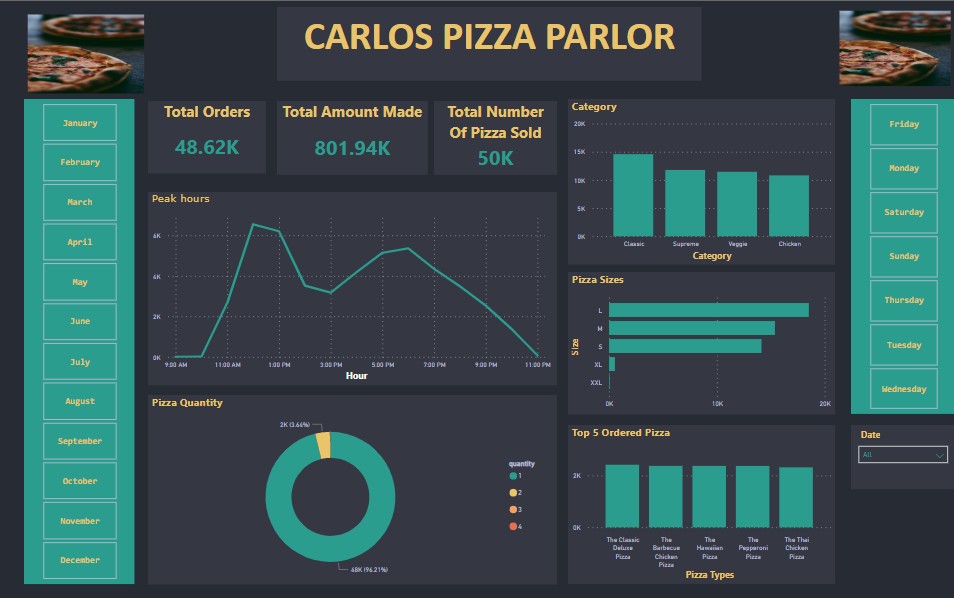

This screenshot's page, from the dashboard's own definition file:
{"tool":"powerbi","page":{"name":"Google-Coursera-capstone","canvas":[1280,800],"ordinal":0},"visuals":[{"type":"lineChart","title":"Peak hours","fields":{"Category":["order_details.Start of Hour"],"Y":["CountNonNull(order_details.order_id)"]},"box":[198.2,255.3,547.6,258.7],"z":1000},{"type":"card","title":"   Total Orders ","fields":{"Values":["CountNonNull(order_details.order_id)"]},"box":[198.2,134.4,157.9,97.4],"z":2000},{"type":"donutChart","title":"Pizza Quantity","fields":{"Y":["Sum(order_details.quantity)"],"Category":["order_details.quantity"]},"box":[198.2,527.5,547.6,253.6],"z":3000},{"type":"clusteredBarChart","title":"Pizza Sizes","fields":{"Category":["order_details.pizzas.size"],"Y":["CountNonNull(order_details.pizzas.size)"]},"box":[760.9,362.8,357.8,191.5],"z":4000},{"type":"columnChart","title":"Category","fields":{"Category":["order_details.pizzas.pizza_types.category"],"Y":["CountNonNull(order_details.pizzas.pizza_types.category)"]},"box":[760.9,131,357.8,221.7],"z":5000},{"type":"card","title":"Total Amount Made","fields":{"Values":["Sum(order_details.pizzas.price)"]},"box":[371.2,134.4,201.6,99.1],"z":6000},{"type":"columnChart","title":"Top 5 Ordered Pizza","fields":{"Category":["order_details.pizzas.pizza_types.name"],"Y":["CountNonNull(order_details.pizzas.pizza_types.name)"]},"box":[760.9,567.8,357.8,213.3],"z":7000},{"type":"card","title":"Total Number Of Pizza Sold","fields":{"Values":["Sum(order_details.quantity)"]},"box":[581.2,134.4,164.6,99.1],"z":8000},{"type":"slicer","fields":{"Values":["order_details.orders.date.Variation.Date Hierarchy.Month"]},"box":[31.9,131,147.8,650.1],"z":9000},{"type":"slicer","fields":{"Values":["order_details.Day Name"]},"box":[1140.6,131,139.4,650.1],"z":9001},{"type":"image","box":[1118.7,8.4,161.3,110.9],"z":9002},{"type":"textbox","box":[371.2,8.4,569.4,99.1],"z":9003},{"type":"image","box":[31.9,8.4,166.3,126],"z":9004}]}

Visuals, with their boxes in screenshot pixels (x1, y1, x2, y2), scaled from the page's 1280x800 canvas onto the 954x598 screenshot:
"Peak hours" lineChart: left=148, top=191, right=556, bottom=384
"   Total Orders " card: left=148, top=100, right=265, bottom=173
"Pizza Quantity" donutChart: left=148, top=394, right=556, bottom=584
"Pizza Sizes" clusteredBarChart: left=567, top=271, right=834, bottom=414
"Category" columnChart: left=567, top=98, right=834, bottom=264
"Total Amount Made" card: left=277, top=100, right=427, bottom=175
"Top 5 Ordered Pizza" columnChart: left=567, top=424, right=834, bottom=584
"Total Number Of Pizza Sold" card: left=433, top=100, right=556, bottom=175
slicer - order_details.orders.date.Variation.Date Hierarchy.Month: left=24, top=98, right=134, bottom=584
slicer - order_details.Day Name: left=850, top=98, right=953, bottom=584
image: left=834, top=6, right=953, bottom=89
textbox: left=277, top=6, right=701, bottom=80
image: left=24, top=6, right=148, bottom=100
